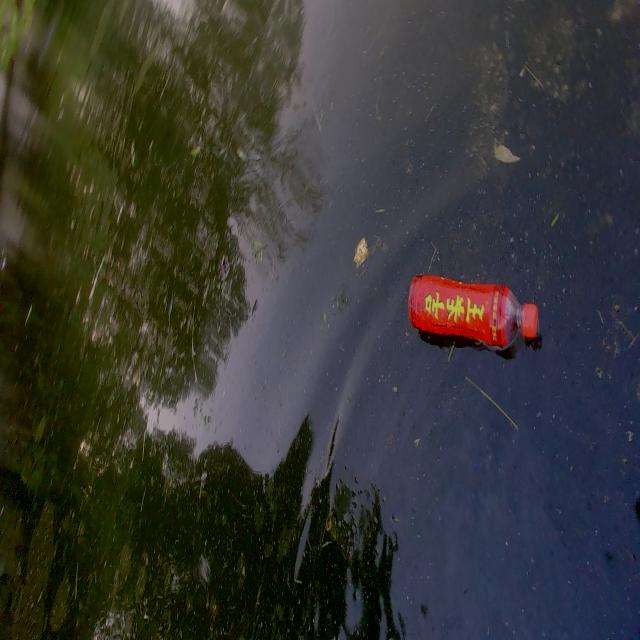bottle: (390, 252, 556, 374)
